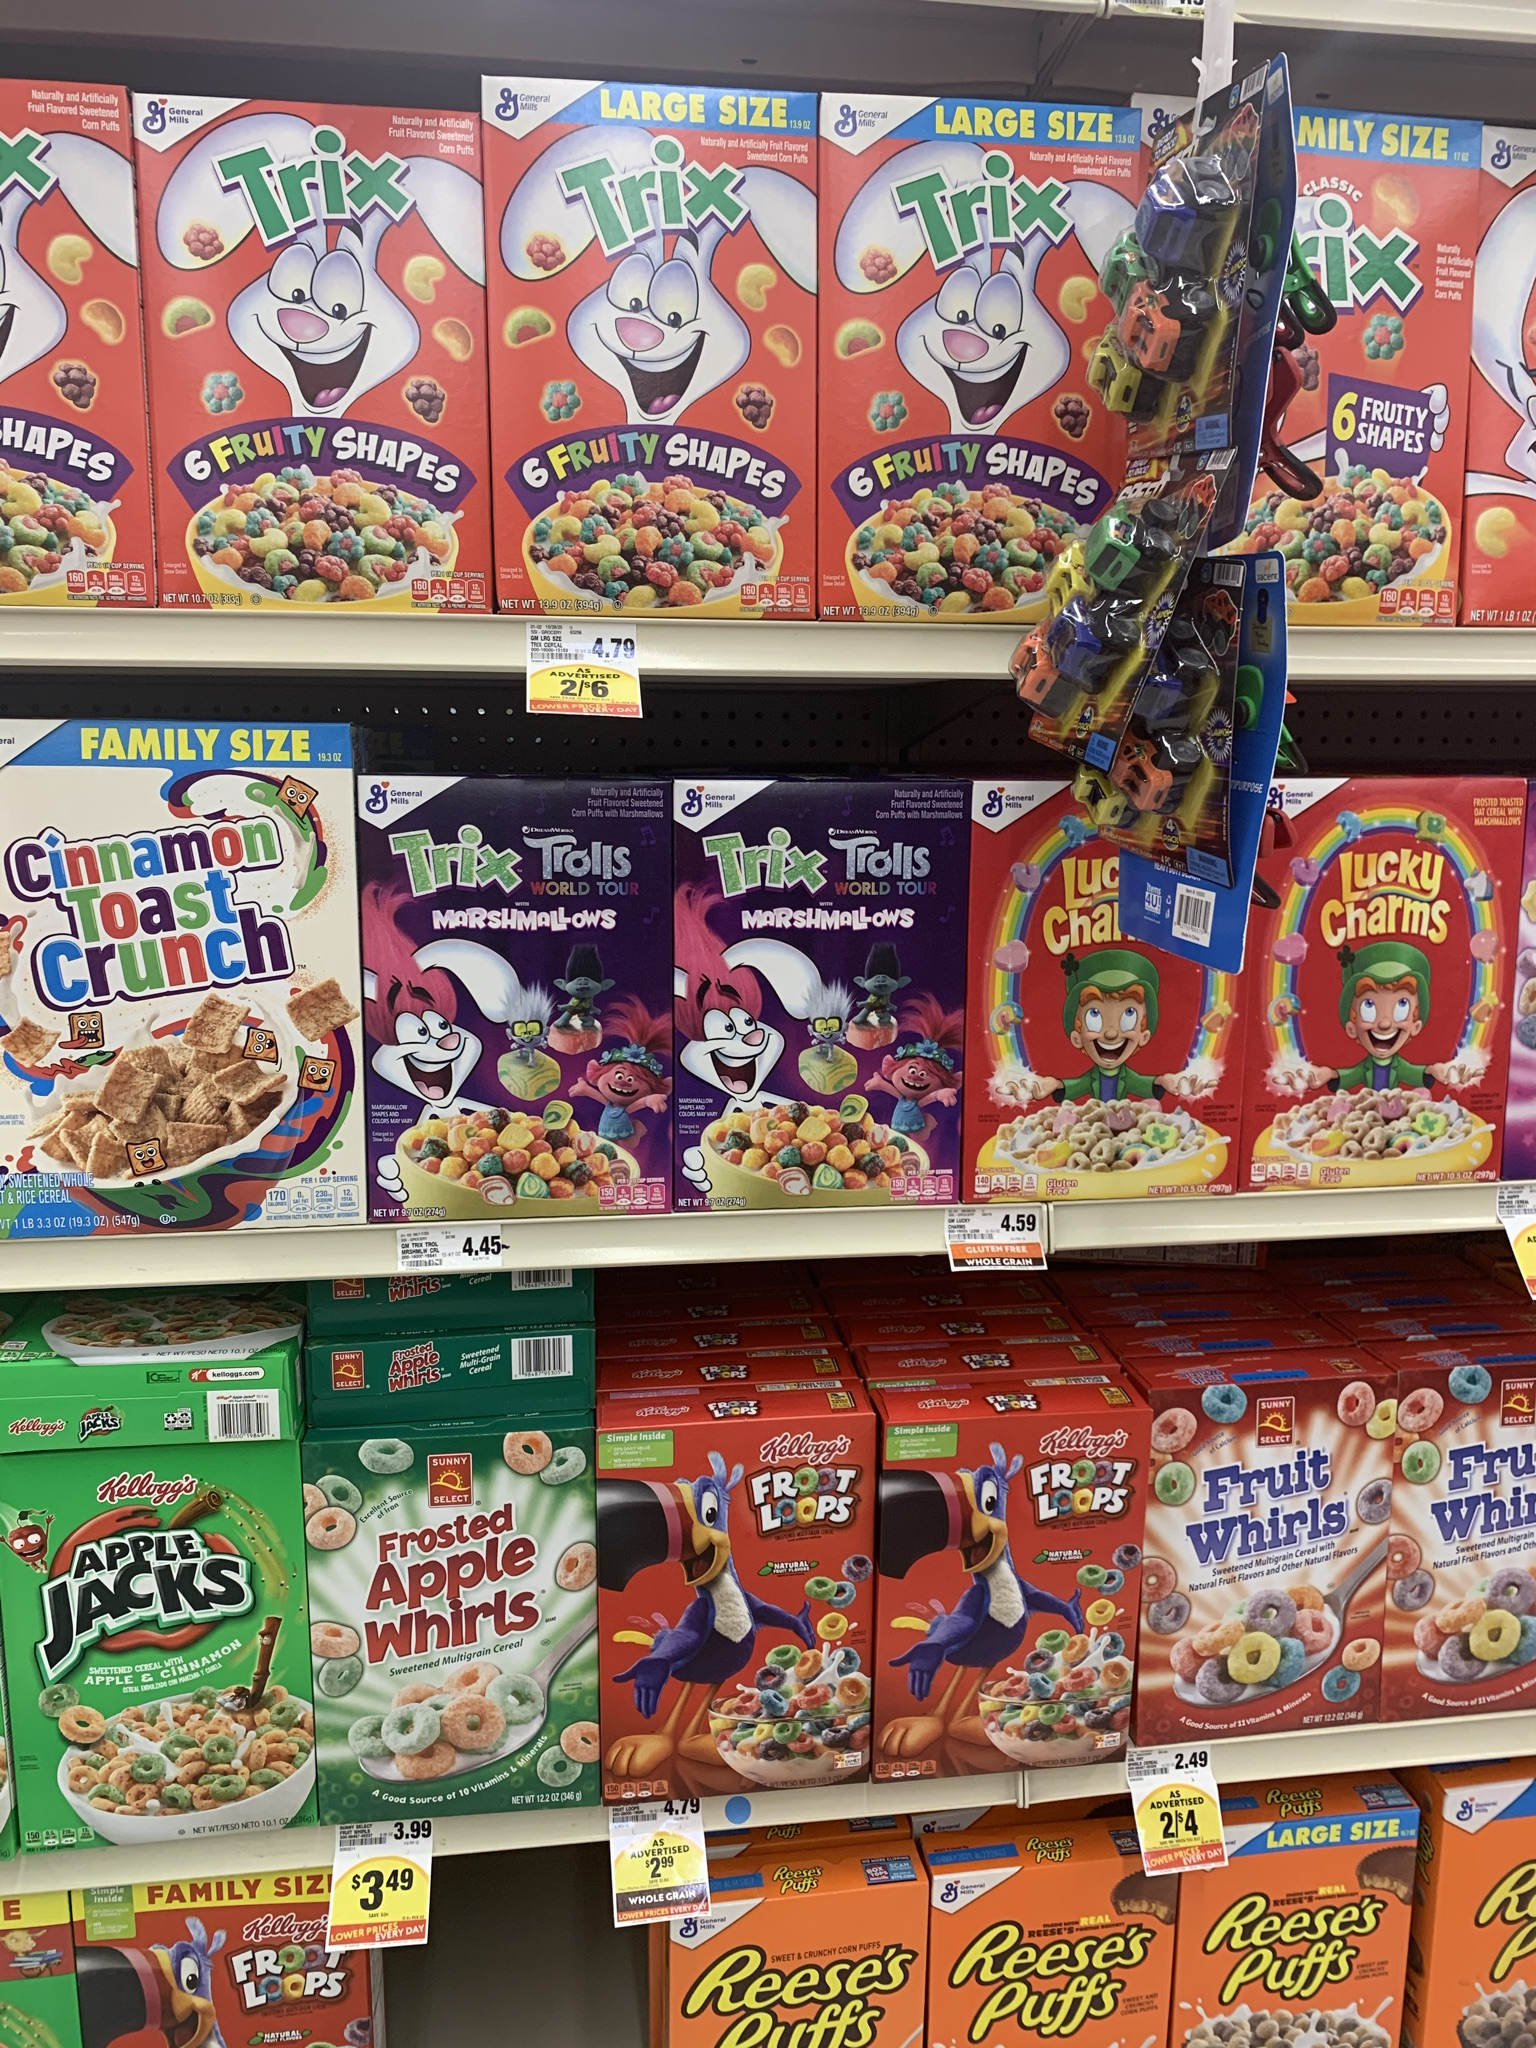box: (2, 735, 344, 1218), (502, 82, 797, 613), (177, 114, 476, 605), (378, 789, 663, 1213), (678, 787, 962, 1205), (1268, 789, 1523, 1187), (10, 1480, 290, 1813), (611, 1435, 870, 1780), (336, 1451, 576, 1809), (907, 1435, 1149, 1784), (1158, 1393, 1388, 1737), (1397, 1392, 1536, 1706), (1196, 1871, 1409, 2048), (937, 1901, 1165, 2048)
